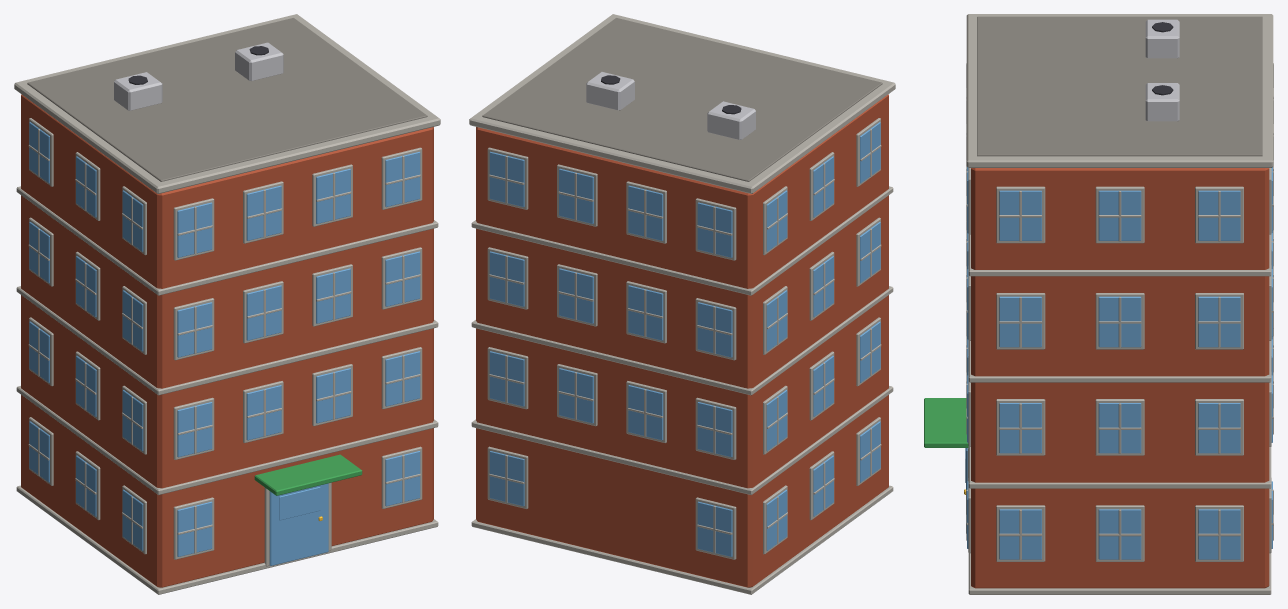
The model's file is ApartmentBuilding.fbx.
3 views of the same model, side by side, from view 1: azimuth 30°, elevation 25°; view 2: azimuth 150°, elevation 25°; view 3: azimuth 270°, elevation 25° (orthographic). The views are drawn at different scales.
Visible parts, largest first — view 1: ApartmentBuilding; view 2: ApartmentBuilding; view 3: ApartmentBuilding.
Part boxes in pixels (x1,y1,x2,y2): ApartmentBuilding: (14, 14, 440, 594); ApartmentBuilding: (469, 14, 895, 594); ApartmentBuilding: (924, 14, 1273, 594).
Bounding box in the file's own units: 16.44 × 23.82 × 16.42.
Materials: 1 (1 with a texture image).
